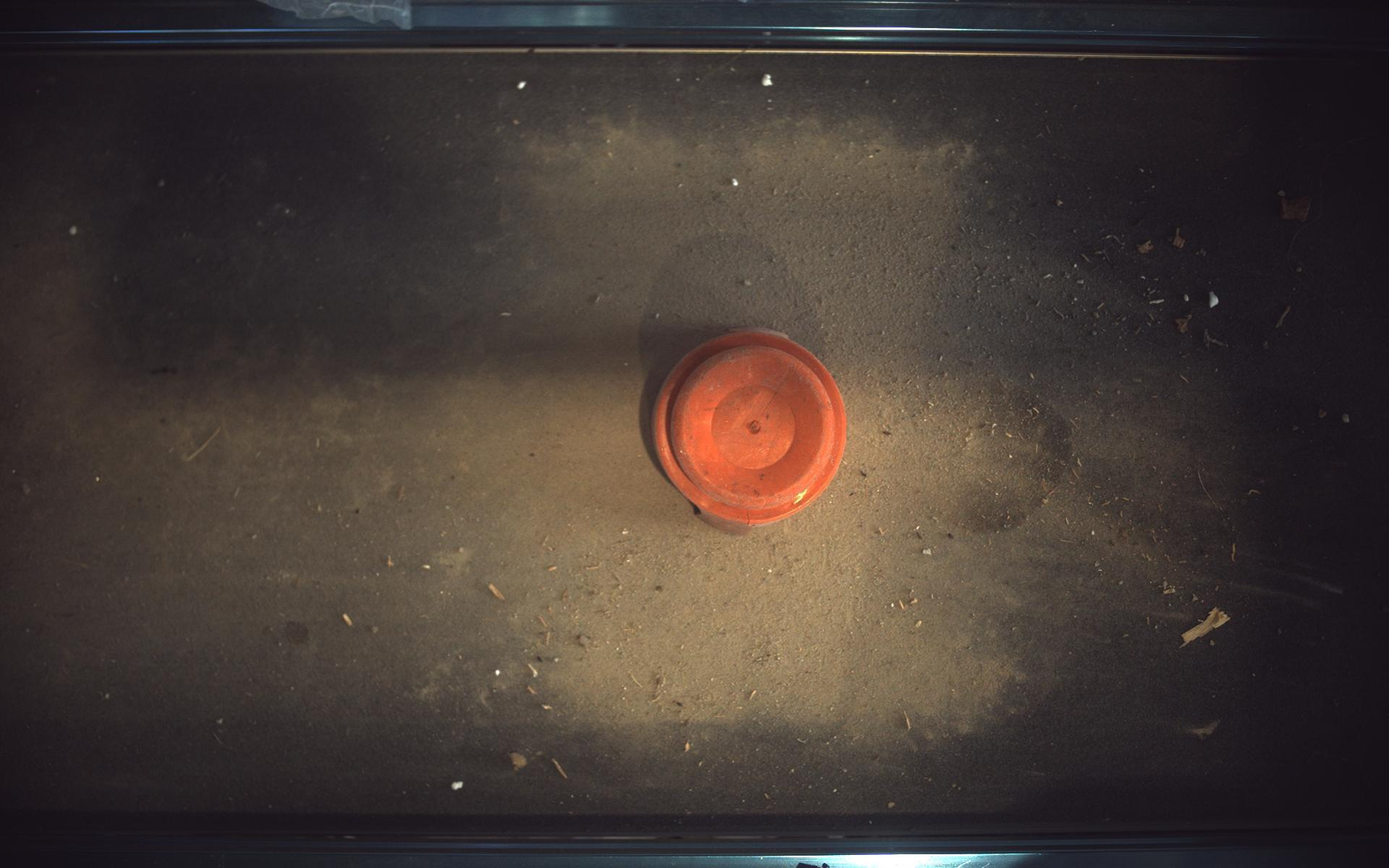plastic: (654, 328, 847, 534)
